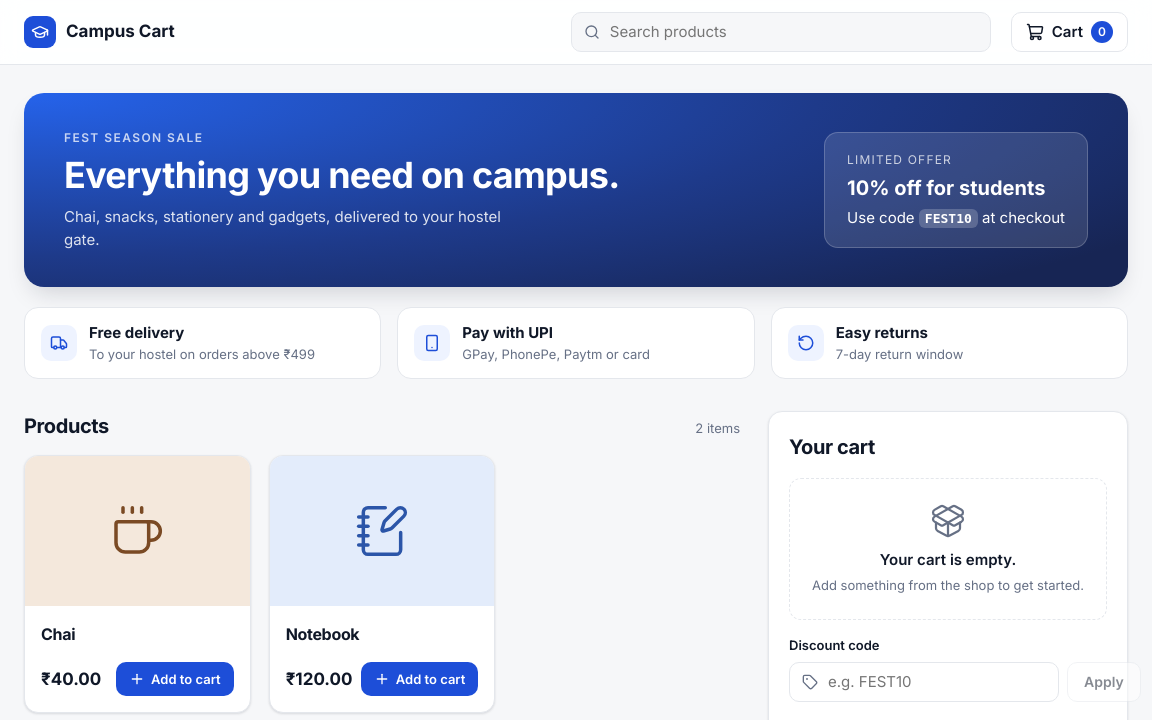
Test: App › shows the server's message when a discount code is rejected
The width and height of the screenshot is (1152, 720).
Type "FREE" into the field labelled "Discount code".
click(936, 682); type("FREE")  # box [826,670,1046,694]
Then press Enter
(page scrolled)
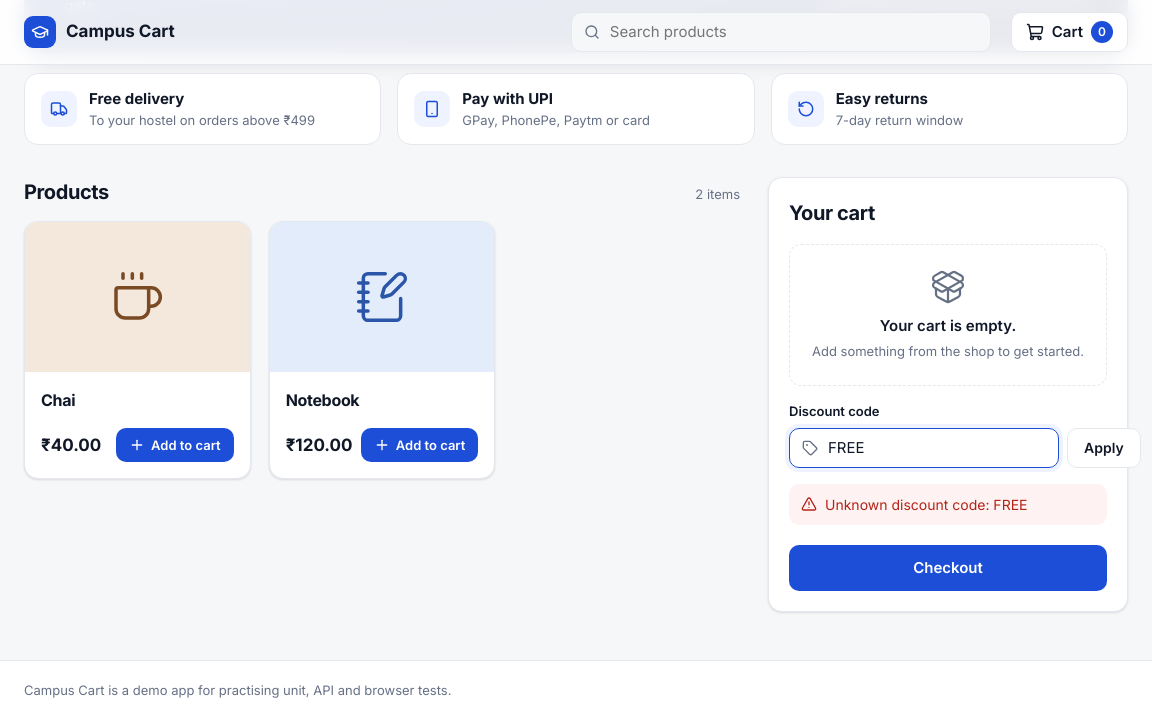
Check: the message reads "Unknown discount code: FREE", box [825,496,1028,513]
